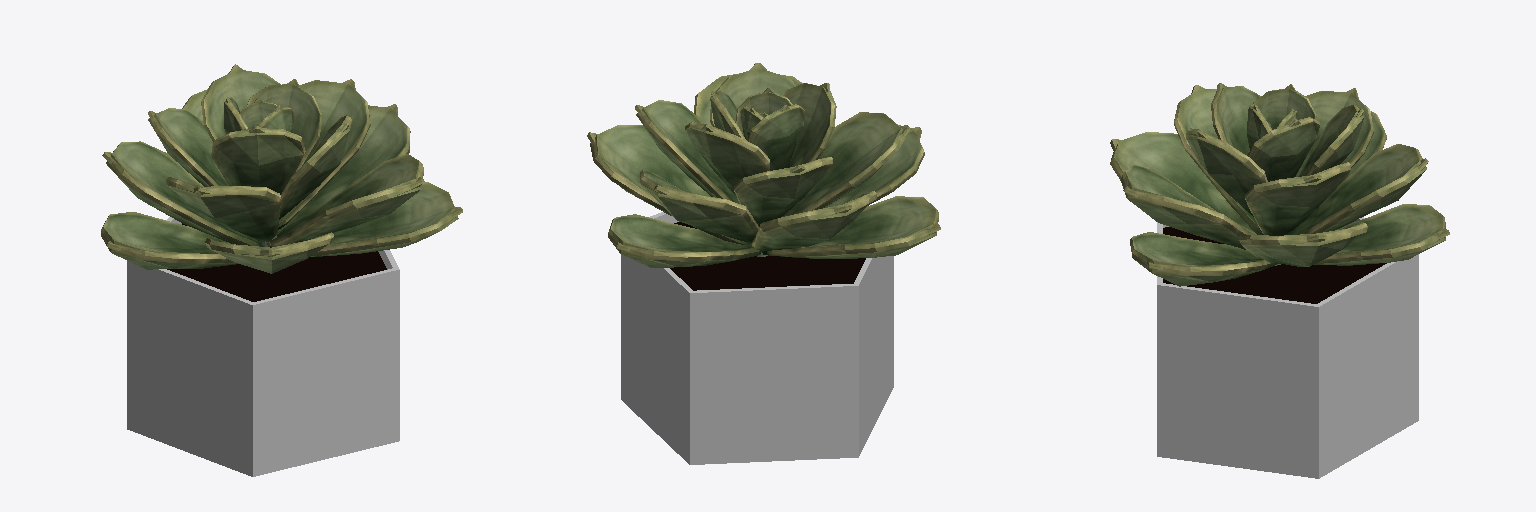
3 renders of one model, left to right at view 1: azimuth 30°, elevation 25°; view 2: azimuth 150°, elevation 25°; view 3: azimuth 270°, elevation 25°, orthographic.
Visible parts, largest first — view 1: pot.001_Cylinder, LpLeaf.017_Plane.072, LpLeaf.022_Plane.077, dirt.001_Cylinder.006, LpLeaf.018_Plane.073, LpLeaf.021_Plane.076, LpLeaf.010_Plane.063, LpLeaf.015_Plane.070, LpLeaf.019_Plane.074, LpLeaf.014_Plane.068, LpLeaf.013_Plane.067, LpLeaf.012_Plane.065 (+6 smaller); view 2: pot.001_Cylinder, LpLeaf.022_Plane.077, LpLeaf.015_Plane.070, LpLeaf.023_Plane.078, dirt.001_Cylinder.006, LpLeaf.019_Plane.074, LpLeaf.014_Plane.068, LpLeaf.016_Plane.071, LpLeaf.013_Plane.067, LpLeaf.018_Plane.073, LpLeaf.011_Plane.069, LpLeaf.010_Plane.063 (+6 smaller); view 3: pot.001_Cylinder, LpLeaf.016_Plane.071, LpLeaf.021_Plane.076, LpLeaf.023_Plane.078, LpLeaf.017_Plane.072, dirt.001_Cylinder.006, LpLeaf.020_Plane.075, LpLeaf.014_Plane.068, LpLeaf.019_Plane.074, LpLeaf.012_Plane.065, LpLeaf.009_Plane.062, LpLeaf.011_Plane.069 (+6 smaller).
Boxes of the visible parts, x1,y1,x2,y2 form: pot.001_Cylinder: [127, 217, 399, 476]; LpLeaf.017_Plane.072: [267, 154, 424, 247]; LpLeaf.022_Plane.077: [101, 212, 237, 269]; dirt.001_Cylinder.006: [167, 223, 386, 301]; LpLeaf.018_Plane.073: [102, 141, 263, 246]; LpLeaf.021_Plane.076: [311, 182, 462, 256]; LpLeaf.010_Plane.063: [211, 126, 305, 194]; LpLeaf.015_Plane.070: [166, 177, 280, 241]; LpLeaf.019_Plane.074: [278, 104, 410, 233]; LpLeaf.014_Plane.068: [278, 79, 370, 229]; LpLeaf.013_Plane.067: [148, 108, 228, 186]; LpLeaf.012_Plane.065: [279, 115, 351, 219]; pot.001_Cylinder: [621, 212, 893, 464]; LpLeaf.022_Plane.077: [762, 196, 940, 258]; LpLeaf.015_Plane.070: [782, 112, 909, 216]; LpLeaf.023_Plane.078: [608, 214, 760, 267]; dirt.001_Cylinder.006: [670, 222, 865, 290]; LpLeaf.019_Plane.074: [587, 125, 750, 244]; LpLeaf.014_Plane.068: [635, 100, 739, 203]; LpLeaf.016_Plane.071: [640, 170, 758, 243]; LpLeaf.013_Plane.067: [734, 157, 832, 226]; LpLeaf.018_Plane.073: [751, 191, 876, 251]; LpLeaf.011_Plane.069: [685, 122, 769, 194]; LpLeaf.010_Plane.063: [782, 83, 836, 167]; pot.001_Cylinder: [1157, 217, 1418, 478]; LpLeaf.016_Plane.071: [1288, 144, 1428, 234]; LpLeaf.021_Plane.076: [1130, 232, 1276, 286]; LpLeaf.023_Plane.078: [1314, 204, 1449, 265]; LpLeaf.017_Plane.072: [1121, 164, 1256, 249]; dirt.001_Cylinder.006: [1163, 227, 1386, 303]; LpLeaf.020_Plane.075: [1110, 132, 1253, 231]; LpLeaf.014_Plane.068: [1244, 162, 1350, 235]; LpLeaf.019_Plane.074: [1239, 222, 1367, 266]; LpLeaf.012_Plane.065: [1186, 128, 1267, 216]; LpLeaf.009_Plane.062: [1247, 117, 1319, 181]; LpLeaf.011_Plane.069: [1298, 105, 1363, 176].
Bounding box in the file's own units: 0.0434 × 0.0413 × 0.0397.
Materials: 4 (2 with a texture image).